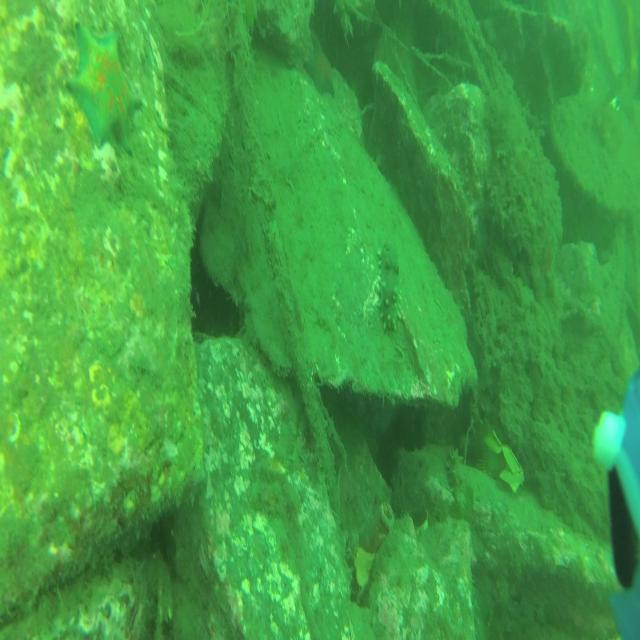holothurian: (374, 236, 404, 338), (445, 445, 468, 501)
starfish: (62, 16, 145, 154), (303, 31, 336, 104)
